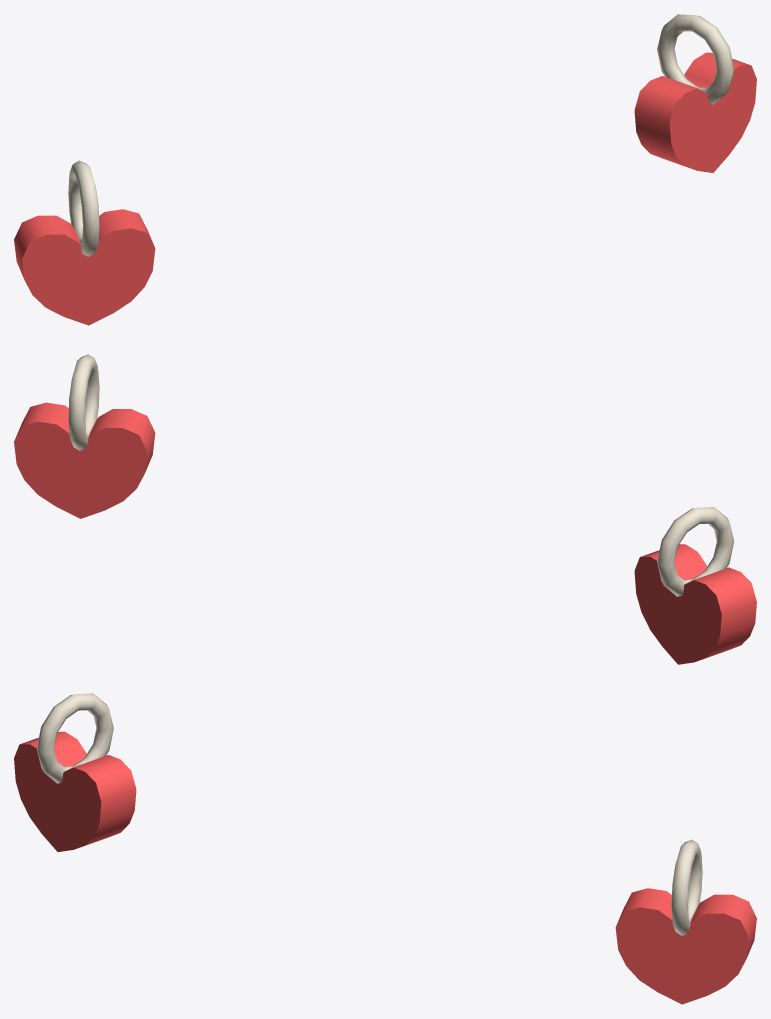
The model's file is Earring_17.fbx.
3 renders of one model, top to bottom at view 1: azimuth 30°, elevation 25°; view 2: azimuth 150°, elevation 25°; view 3: azimuth 330°, elevation 25°, orthographic.
Visible parts, largest first — view 1: Earring_17; view 2: Earring_17; view 3: Earring_17.
Part boxes in pixels (box(x1,y1,x2,y2)): Earring_17: box(14, 14, 756, 325); Earring_17: box(14, 354, 756, 664); Earring_17: box(14, 693, 756, 1004).
Bounding box in the file's own units: 60.68 × 11.93 × 6.59.
